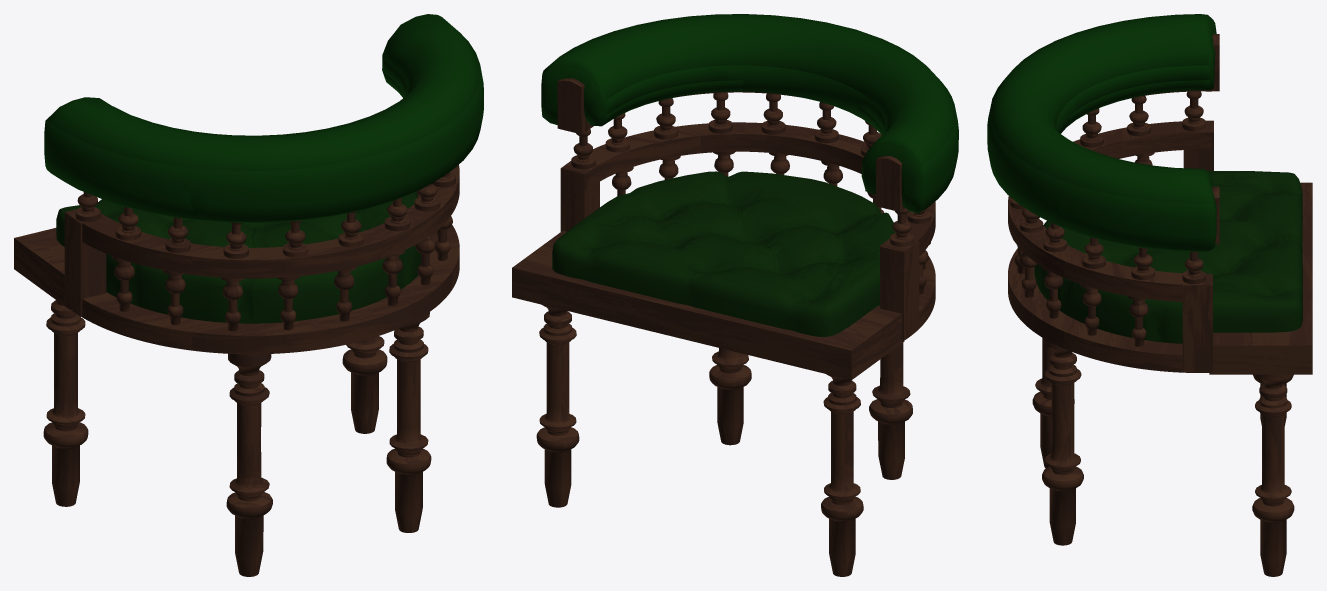
Rendered from mdl_brush_deskchair.gltf.
The picture shows the model from 3 angles, left to right: view 1: azimuth 30°, elevation 25°; view 2: azimuth 150°, elevation 25°; view 3: azimuth 270°, elevation 25°; orthographic projection. The views are drawn at different scales.
Parts seen in each view (by area): view 1: Chair Details, Leather Top, Leather Seating; view 2: Chair Details, Leather Seating, Leather Top; view 3: Chair Details, Leather Top, Leather Seating.
Part boxes in pixels (left/top/right/bottom): Chair Details: left=14, top=165, right=459, bottom=576; Leather Top: left=44, top=14, right=483, bottom=222; Leather Seating: left=56, top=192, right=420, bottom=323; Chair Details: left=512, top=78, right=935, bottom=576; Leather Seating: left=552, top=171, right=895, bottom=336; Leather Top: left=541, top=14, right=958, bottom=213; Chair Details: left=1008, top=34, right=1312, bottom=576; Leather Top: left=987, top=14, right=1216, bottom=251; Leather Seating: left=1034, top=171, right=1302, bottom=343.
Bounding box in the file's own units: 3.22 × 3.31 × 2.39.
3 materials, 1 textured.
